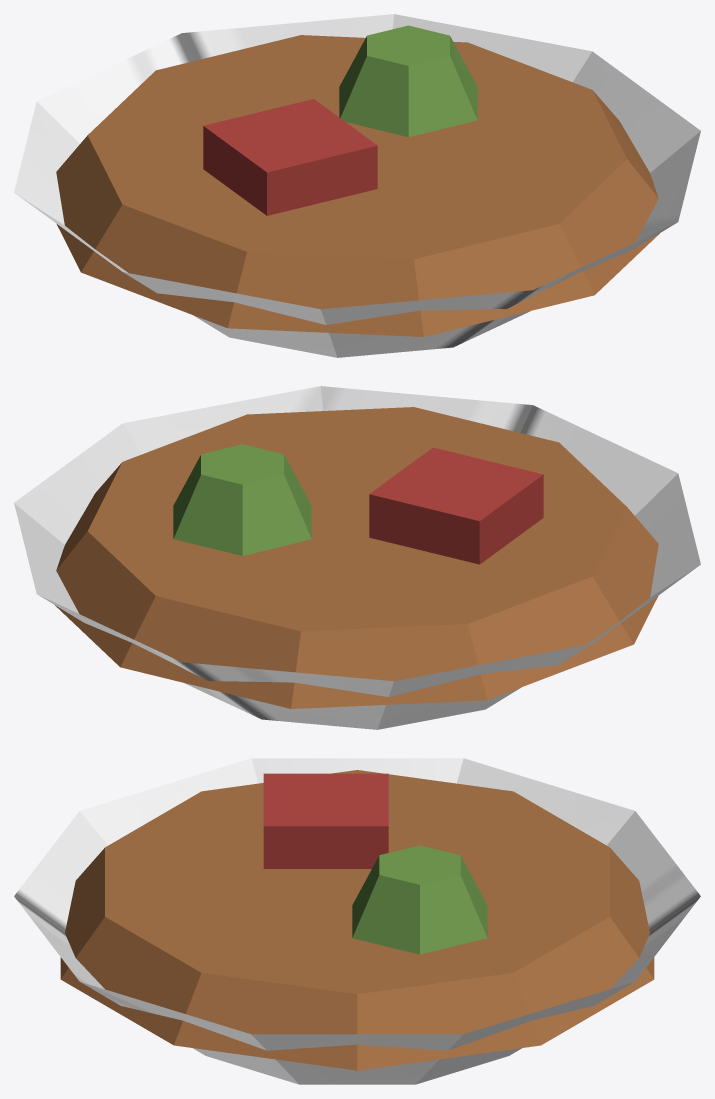
Rendered from meal_fine.obj.
The picture shows the model from 3 angles, top to bottom: view 1: azimuth 30°, elevation 25°; view 2: azimuth 150°, elevation 25°; view 3: azimuth 270°, elevation 25°; orthographic projection. The views are drawn at different scales.
Visible parts, largest first — view 1: meal_fine; view 2: meal_fine; view 3: meal_fine.
Boxes of the visible parts, x1,y1,x2,y2 form: meal_fine: (14,14,700,357); meal_fine: (14,386,700,729); meal_fine: (14,758,700,1084).
Bounding box in the file's own units: 0.4184 × 0.13 × 0.44.
